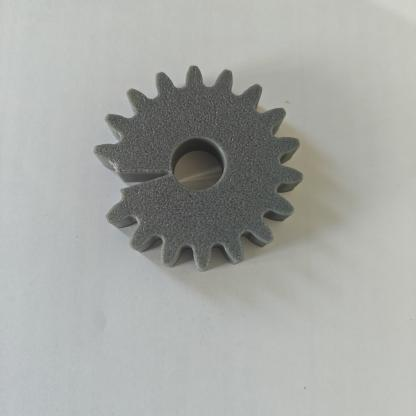defect: (65, 131, 196, 225)
gear: (66, 60, 327, 277)
